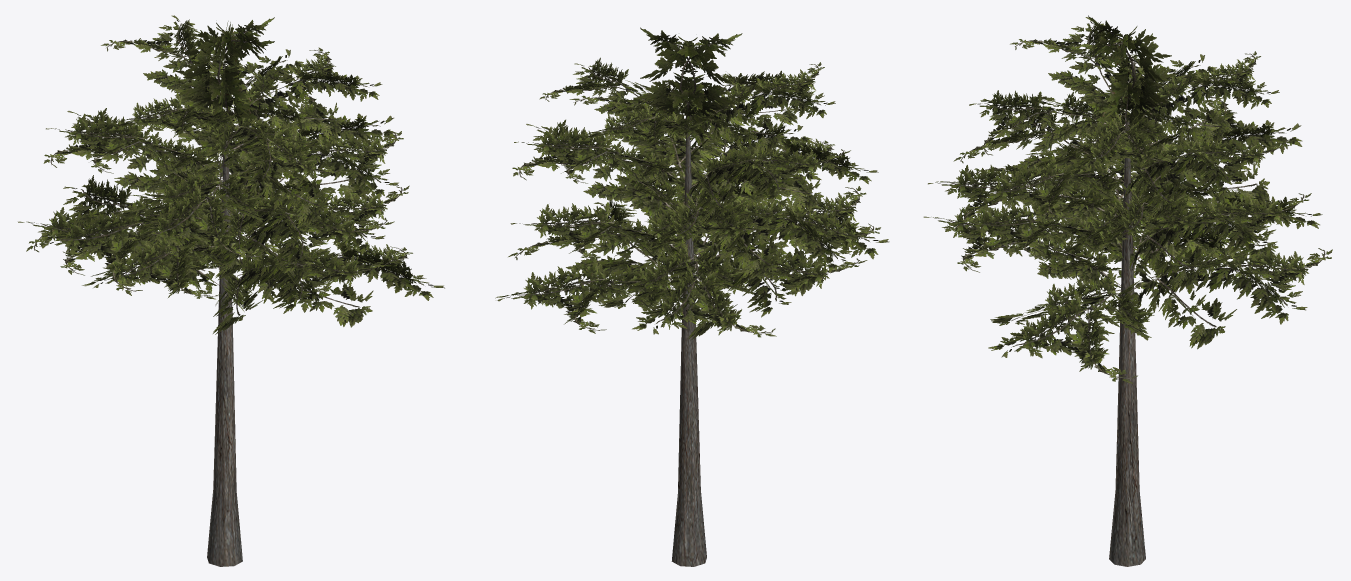
Rendered from Sharp_Maple05.gltf.
The picture shows the model from 3 angles, left to right: view 1: azimuth 30°, elevation 25°; view 2: azimuth 150°, elevation 25°; view 3: azimuth 270°, elevation 25°; orthographic projection.
Parts seen in each view (by area): view 1: Cfol, Dfol, Bfol, Ffol, Efol, Trunk, Afol; view 2: Efol, Dfol, Cfol, Ffol, Bfol, Trunk, Afol; view 3: Ffol, Bfol, Cfol, Dfol, Efol, Trunk, Afol.
Part boxes in pixels (<box>): Cfol: <box>46,49,403,260</box>; Dfol: <box>39,89,396,295</box>; Bfol: <box>101,15,382,187</box>; Ffol: <box>18,172,444,334</box>; Efol: <box>26,119,409,299</box>; Trunk: <box>207,120,242,566</box>; Afol: <box>175,17,274,130</box>; Efol: <box>510,125,889,337</box>; Dfol: <box>512,119,880,279</box>; Cfol: <box>514,79,878,226</box>; Ffol: <box>495,156,867,339</box>; Bfol: <box>539,57,835,154</box>; Trunk: <box>671,127,706,566</box>; Afol: <box>633,27,742,139</box>; Ffol: <box>923,152,1332,383</box>; Bfol: <box>969,17,1279,171</box>; Cfol: <box>953,54,1294,221</box>; Dfol: <box>928,93,1302,254</box>; Efol: <box>951,141,1322,292</box>; Trunk: <box>1109,122,1145,566</box>; Afol: <box>1079,15,1178,132</box>.
Bounding box in the file's own units: 8.08 × 11.34 × 8.02.
2 materials, 2 textured.
